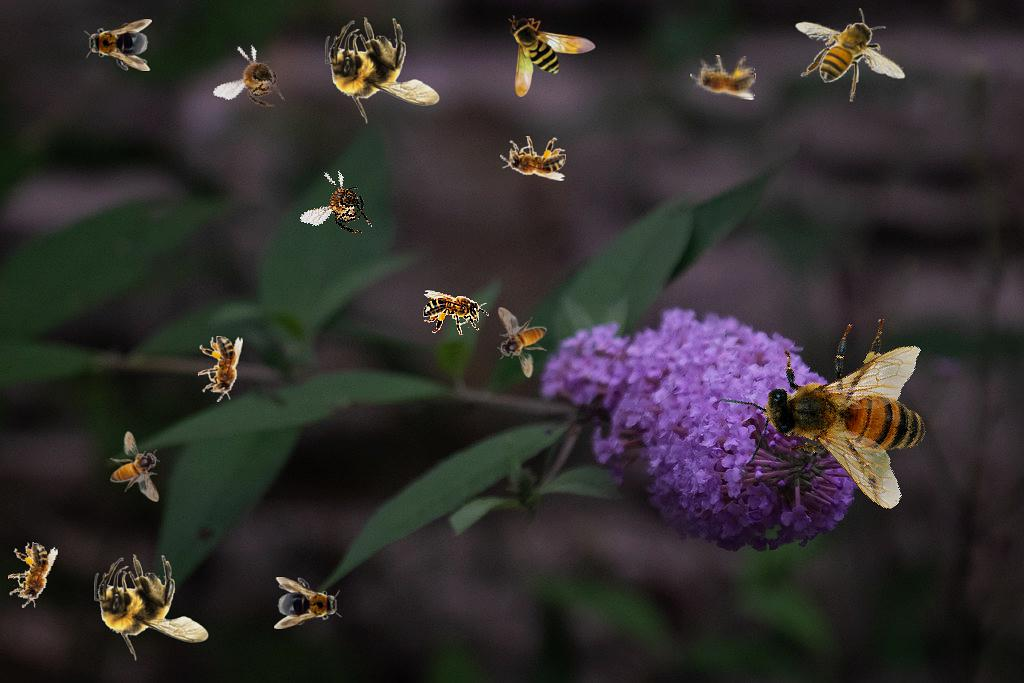Bee: (700, 270, 985, 556), (325, 17, 440, 124), (94, 554, 209, 661), (795, 8, 906, 102), (508, 15, 596, 97), (212, 37, 299, 119), (299, 163, 386, 245), (3, 539, 59, 612), (497, 307, 547, 378), (110, 431, 160, 502), (84, 19, 152, 71), (274, 577, 342, 629), (198, 336, 243, 402), (500, 136, 566, 181), (423, 290, 489, 335), (690, 55, 756, 100)
